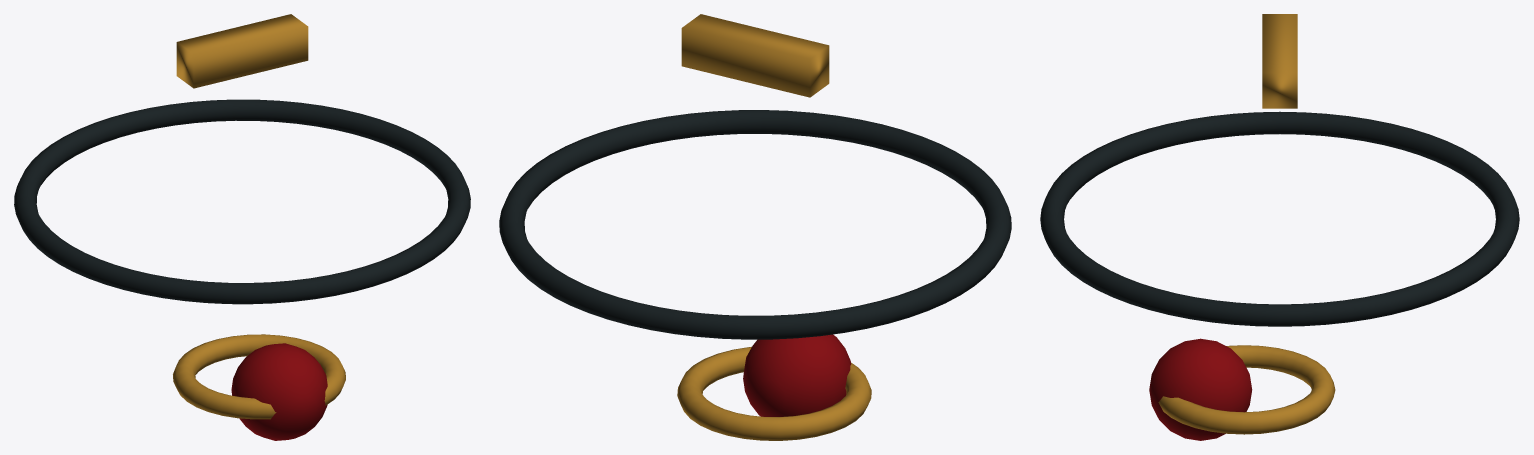
The model's file is jwl_amulet_bloodglass_t1.glb.
The picture shows the model from 3 angles, left to right: view 1: azimuth 30°, elevation 25°; view 2: azimuth 150°, elevation 25°; view 3: azimuth 270°, elevation 25°; orthographic projection. The views are drawn at different scales.
Visible parts, largest first — view 1: jwl_neck_chain_arc, jwl_pendant_gem, jwl_clasp, jwl_pendant_frame; view 2: jwl_neck_chain_arc, jwl_clasp, jwl_pendant_gem, jwl_pendant_frame; view 3: jwl_neck_chain_arc, jwl_pendant_gem, jwl_pendant_frame, jwl_clasp.
Part boxes in pixels (bbox=[...]): jwl_neck_chain_arc: bbox=[14, 99, 470, 304]; jwl_pendant_gem: bbox=[231, 343, 327, 440]; jwl_clasp: bbox=[176, 14, 308, 88]; jwl_pendant_frame: bbox=[173, 334, 345, 419]; jwl_neck_chain_arc: bbox=[499, 110, 1011, 339]; jwl_clasp: bbox=[681, 14, 829, 97]; jwl_pendant_gem: bbox=[743, 334, 850, 416]; jwl_pendant_frame: bbox=[677, 346, 871, 440]; jwl_neck_chain_arc: bbox=[1040, 111, 1519, 326]; jwl_pendant_gem: bbox=[1149, 338, 1252, 440]; jwl_pendant_frame: bbox=[1158, 345, 1335, 434]; jwl_clasp: bbox=[1262, 14, 1297, 108].
Size of the model in its own units: 0.242 by 0.219 by 0.242.
